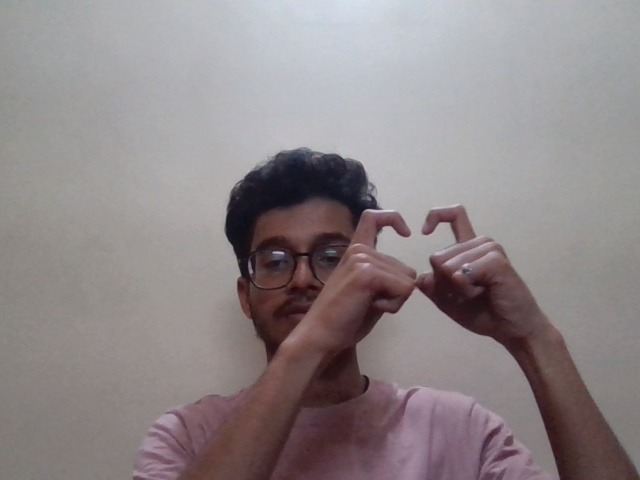who: (340, 200, 520, 353)
